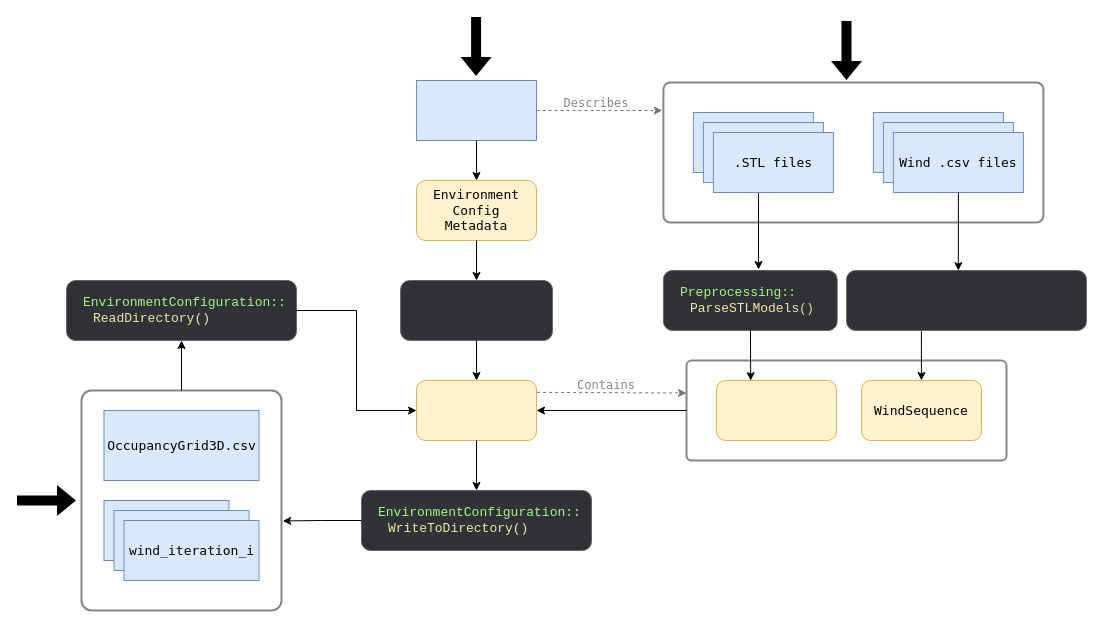
This 1104x629 diagram has some shape labels left out. Here are the shapes that lost their labels. From the top down, the centre of each, then its label:
At pixel 476 110: "config.yaml".
At pixel 476 310: "Preprocessing :: Preprocess()".
At pixel 966 300: "Preprocessing :: ParseOpenFoamVectorCloud ()".
At pixel 476 410: "Environment Configuration".
At pixel 776 410: "Environment".
